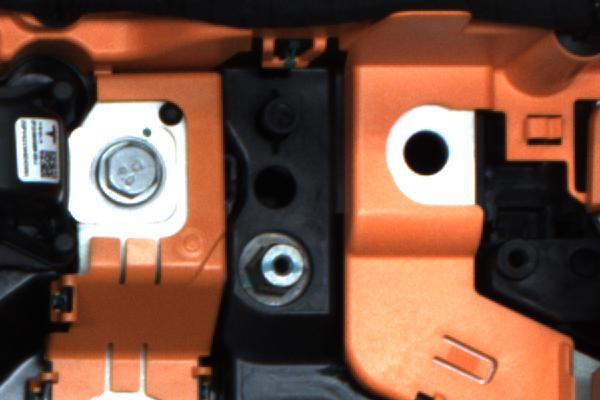nut_b: (87, 138, 177, 216)
